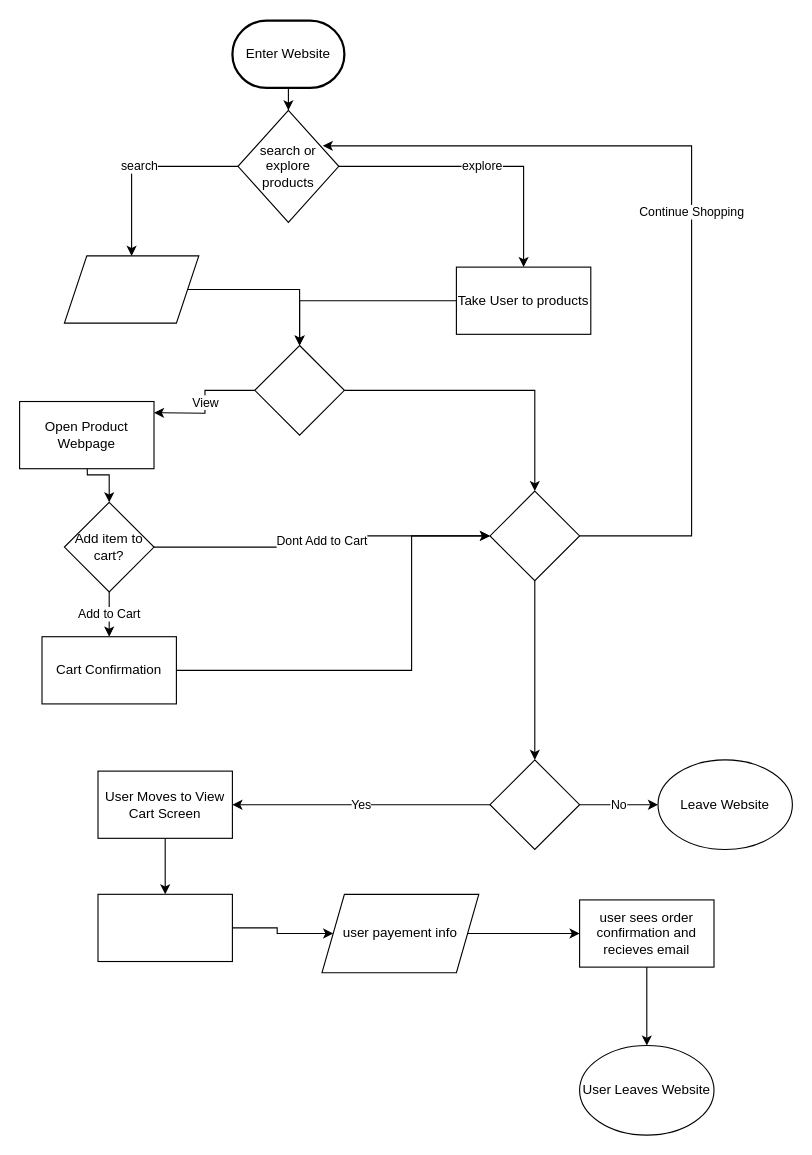
The diagram is 812 pixels wide and 1155 high, and some of its shapes have lost their labels. The box of each missing label's shape, as (x1, y1, x2, y2) in pixels:
Checkout?: (489, 759, 580, 850)
Continue Shopping?: (489, 490, 580, 581)
User Moves to View Payment Screen: (97, 893, 232, 962)
user search input: (63, 255, 199, 323)
View Item or not: (254, 344, 344, 435)
